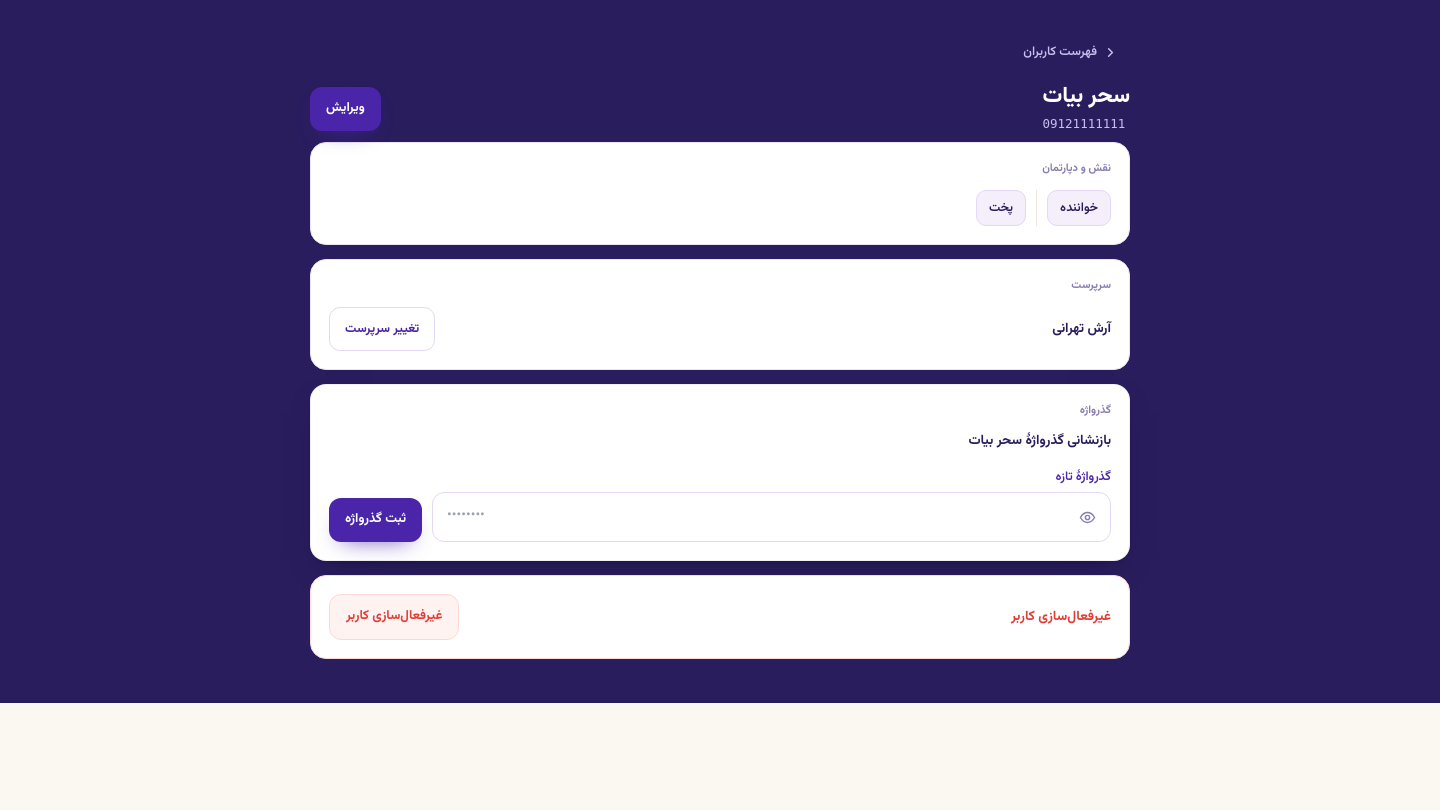
Test: when one of the dialog's own reads fails › says the supervisor list did not load, instead of announcing that nobody may supervise this account
Click the button "ویرایش".
click(345, 109)  # box [310,87,381,131]
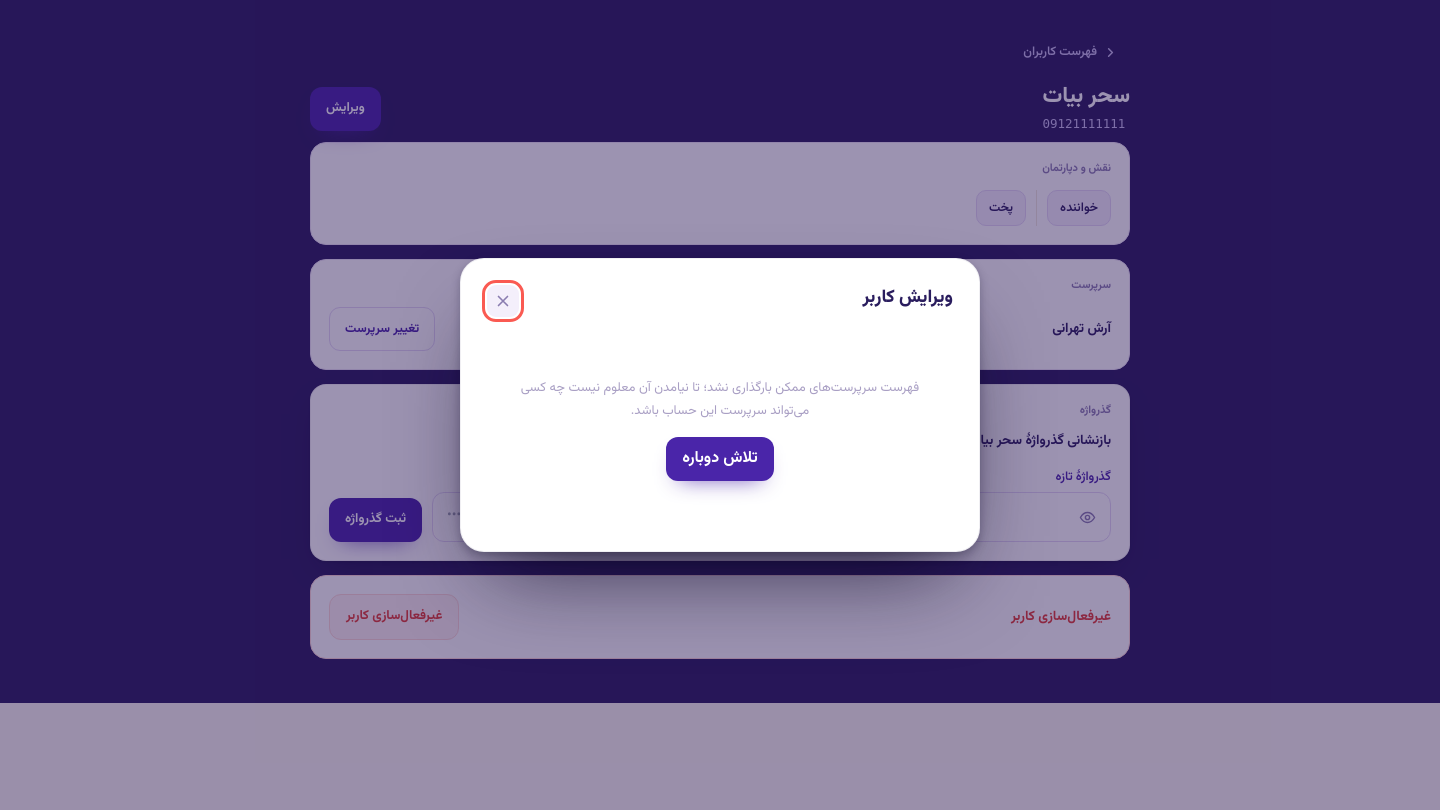
expect the dialog is shown: met, box [460,258,980,552]
expect the text "فهرست سرپرست‌های ممکن بارگذاری نشد؛ تا نیامدن آن معلوم نیست چه کسی می‌تواند سرپرست این حساب باشد." is shown: met, box [521,378,919,421]
